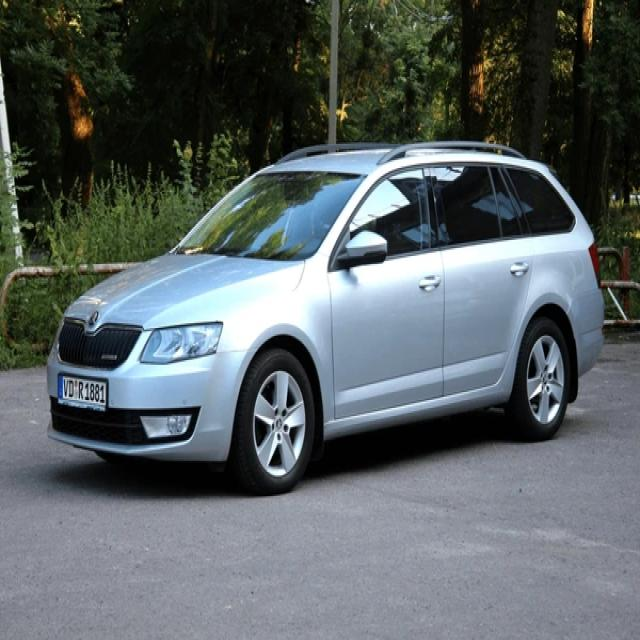skoda: (84, 304, 101, 330)
